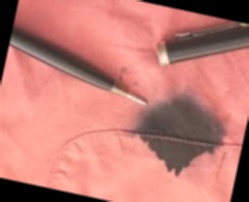ink: (135, 97, 225, 179)
